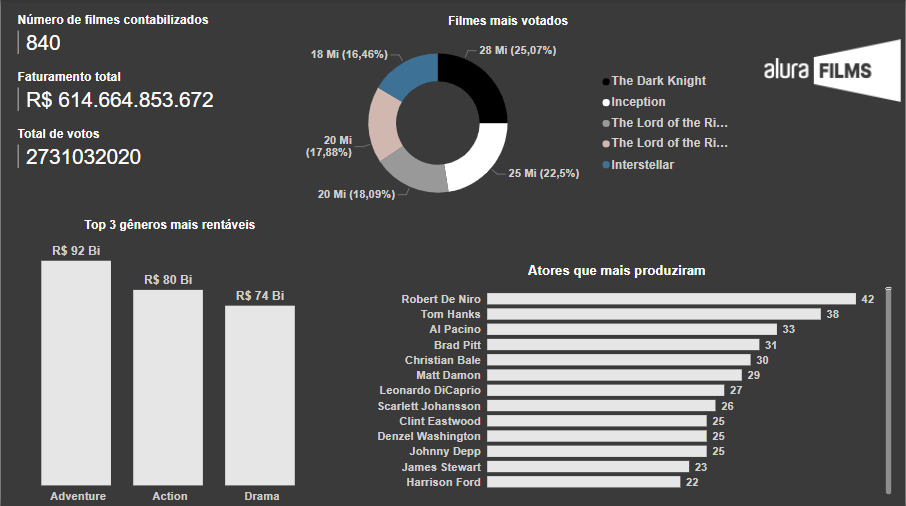

Layout of this report page (visuals, bound fields, positions):
{"tool":"powerbi","page":{"name":"Página 1","canvas":[1280,720],"ordinal":0},"visuals":[{"type":"image","box":[1077.2,0,202.7,202.7],"z":0},{"type":"columnChart","title":"Top 3 gêneros mais rentáveis","fields":{"Category":["Filmes.Genre"],"Y":["Filmes.Gross"]},"box":[0,310.8,478.7,409.9],"z":1000},{"type":"multiRowCard","title":"Número de filmes contabilizados","fields":{"Values":["Filmes.Series_Title"]},"box":[18.5,20.2,315.8,80.6],"z":2000},{"type":"donutChart","title":"Filmes mais votados","fields":{"Y":["Filmes.Noofvotes"],"Category":["Filmes.Series_Title"]},"box":[383,21.8,671.9,288.9],"z":3000},{"type":"multiRowCard","title":"Faturamento total","fields":{"Values":["Filmes.Gross"]},"box":[18.5,100.8,315.8,80.6],"z":4000},{"type":"multiRowCard","title":"Total de votos","fields":{"Values":["Filmes.Noofvotes"]},"box":[18.5,181.4,315.8,80.6],"z":5000},{"type":"barChart","title":"Atores que mais produziram","fields":{"Category":["Filmes.Mesclado"],"Y":["Filmes.Series_Title"]},"box":[478.7,374.6,787.8,332.6],"z":6000}]}

Visuals, with their boxes in screenshot pixels (x1, y1, x2, y2), scaled from the page's 1280x720 canvas onto the 906x506 screenshot:
image: detection(762, 0, 905, 142)
"Top 3 gêneros mais rentáveis" columnChart: detection(0, 218, 339, 505)
"Número de filmes contabilizados" multiRowCard: detection(13, 14, 237, 71)
"Filmes mais votados" donutChart: detection(271, 15, 747, 218)
"Faturamento total" multiRowCard: detection(13, 71, 237, 127)
"Total de votos" multiRowCard: detection(13, 127, 237, 184)
"Atores que mais produziram" barChart: detection(339, 263, 896, 497)
